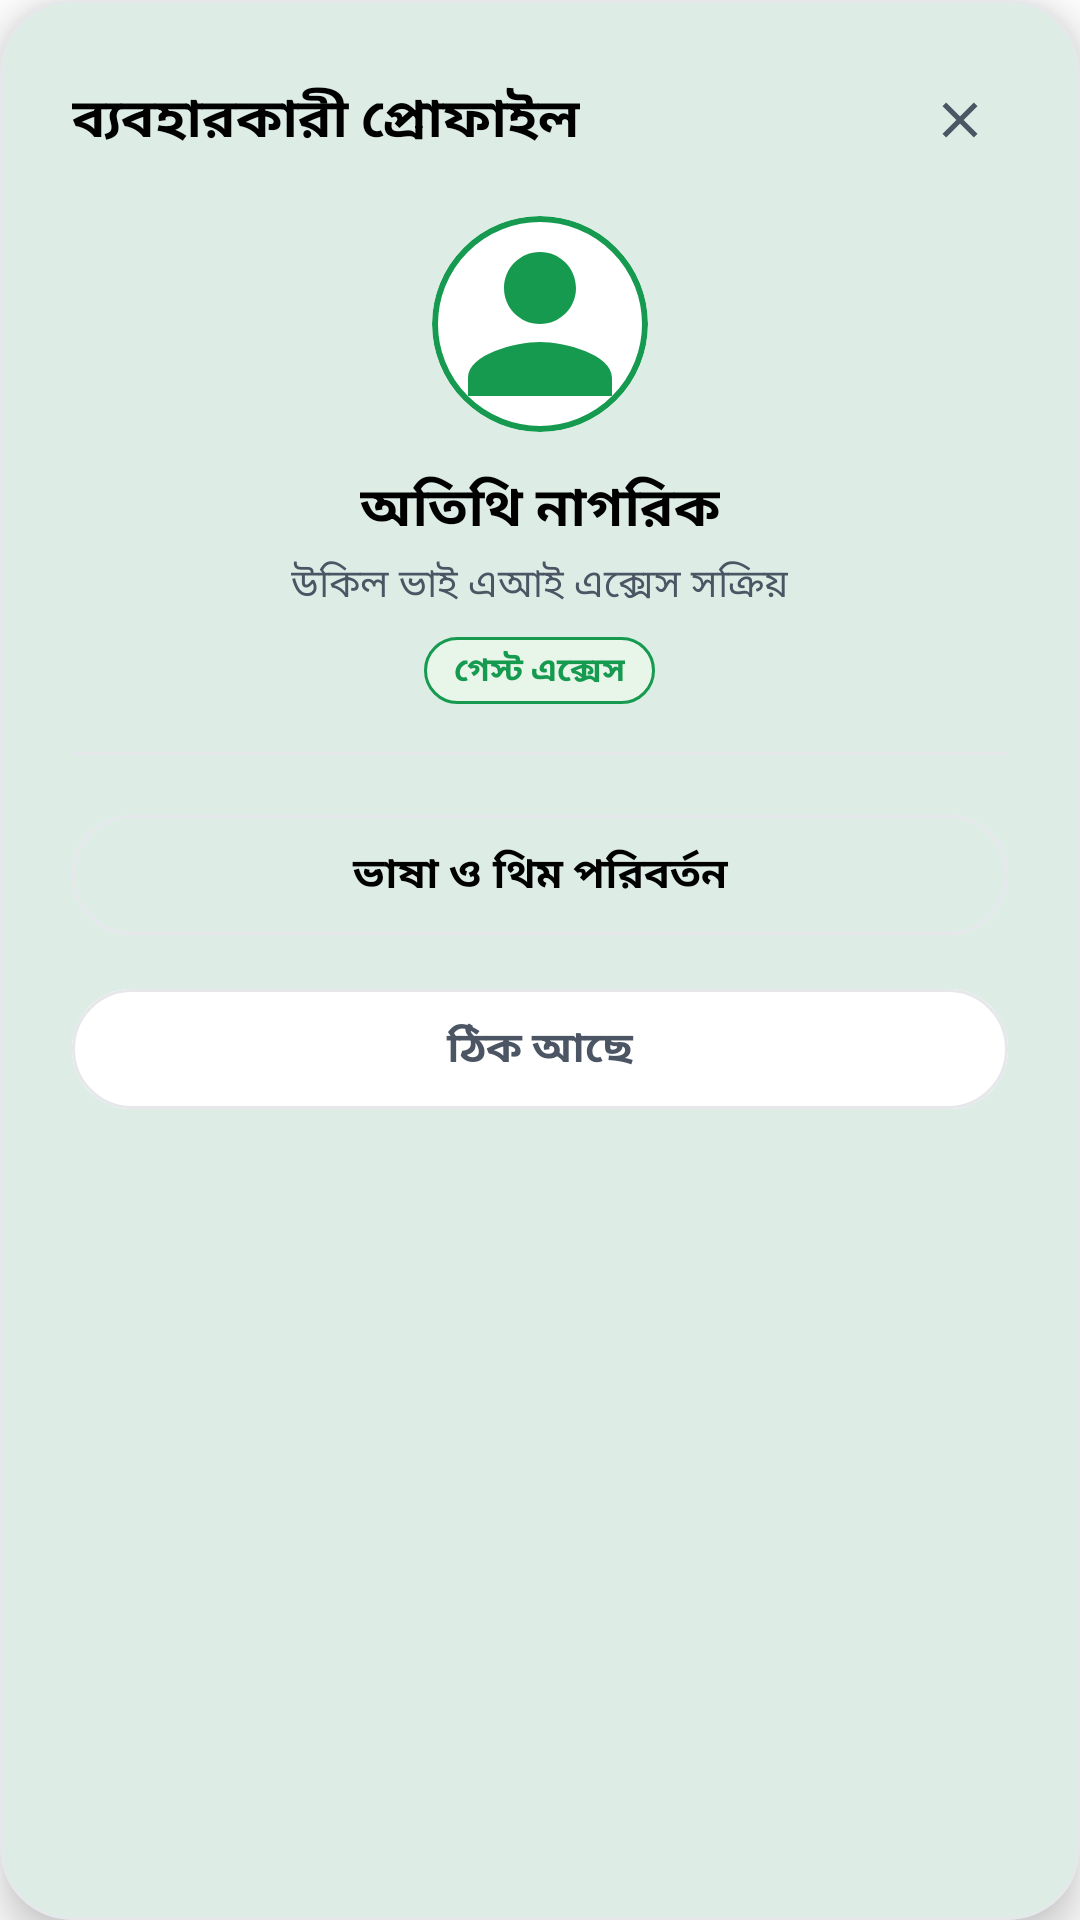

Where to tap for icons on this 1080px×1920px app screen, as point (x, y):
Close: point (960, 120)
